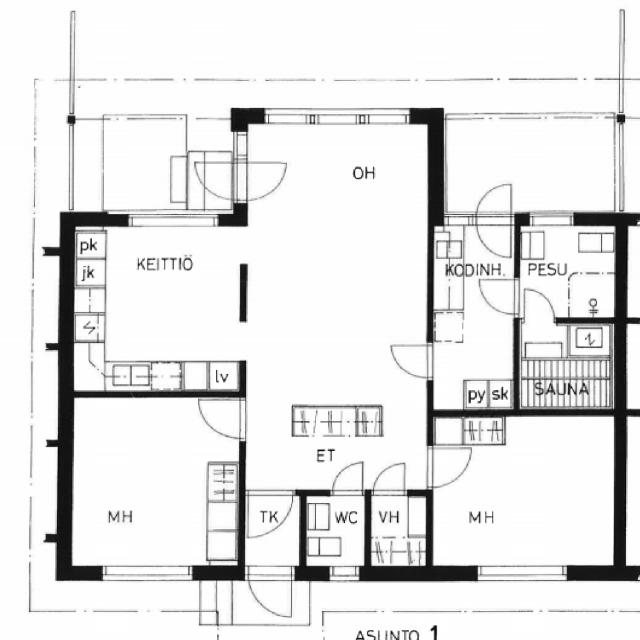door: (249, 567, 292, 624), (248, 491, 293, 540), (231, 163, 285, 200), (194, 163, 248, 200), (428, 449, 474, 488), (202, 401, 246, 439), (477, 213, 512, 260), (477, 179, 512, 226), (478, 280, 520, 314), (396, 346, 435, 378), (525, 287, 555, 326), (374, 460, 405, 497), (332, 461, 362, 497)
